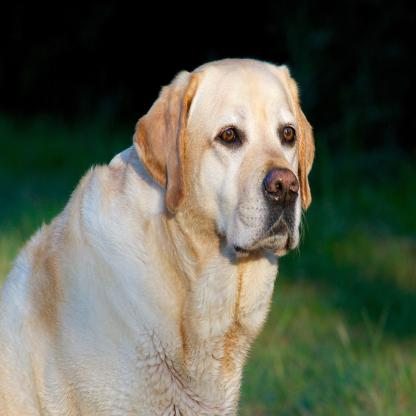Rotveler: (2, 58, 322, 416)
